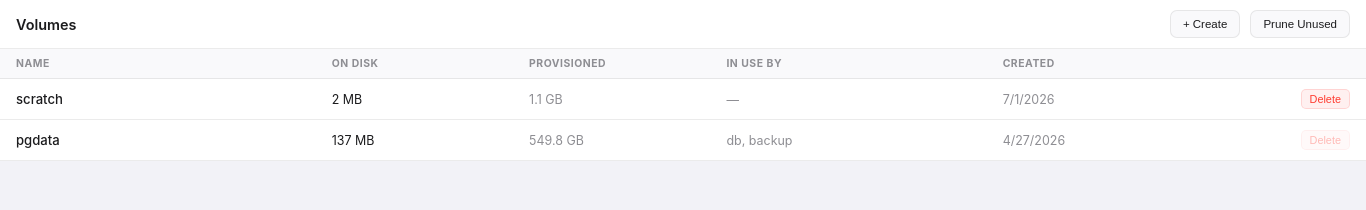
VolumesView › surfaces a failure from the CLI
This screenshot has width=1366, height=210.
expect the text "scratch" is shown: met, box [16,91,63,107]
Click the button "Delete" in the row of "scratch": (1325, 99) [1300,89,1350,109]
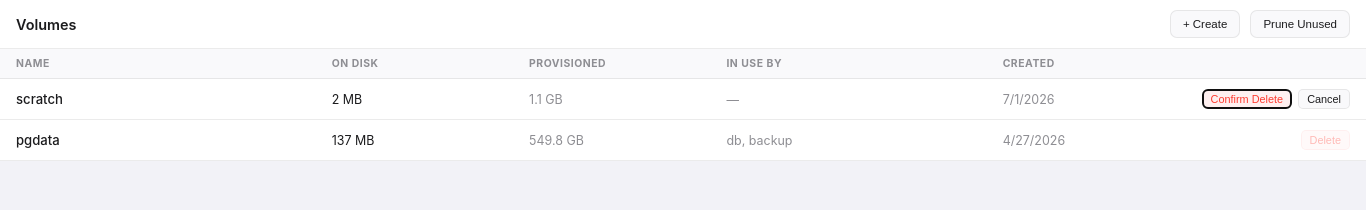
Click the button "Confirm Delete": (1247, 99) [1202,89,1292,109]
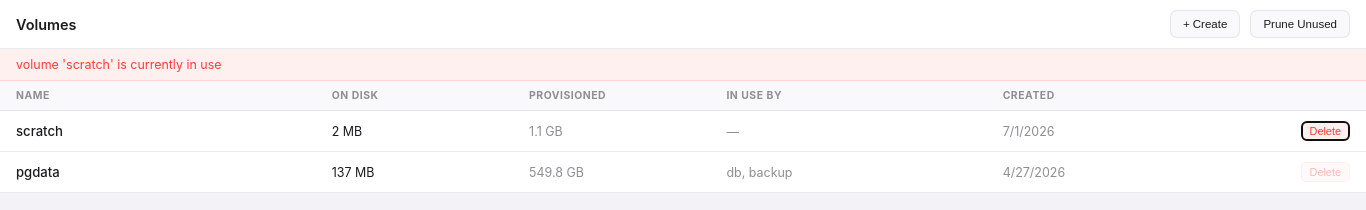
expect the text "volume 'scratch' is currently in use" is shown: met, box [0,49,1365,81]
